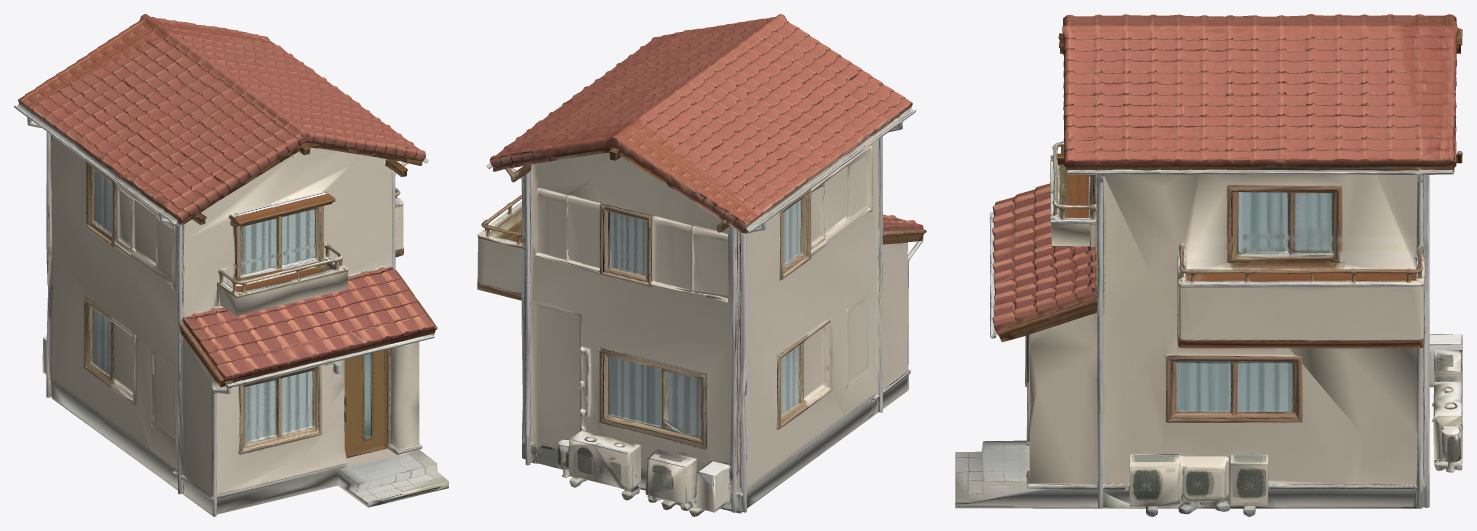
File: house.glb
The picture shows the model from 3 angles, left to right: view 1: azimuth 30°, elevation 25°; view 2: azimuth 150°, elevation 25°; view 3: azimuth 270°, elevation 25°; orthographic projection. The views are drawn at different scales.
Bounding box in the file's own units: 1.48 × 1.76 × 1.91.
1 material, 1 textured.
